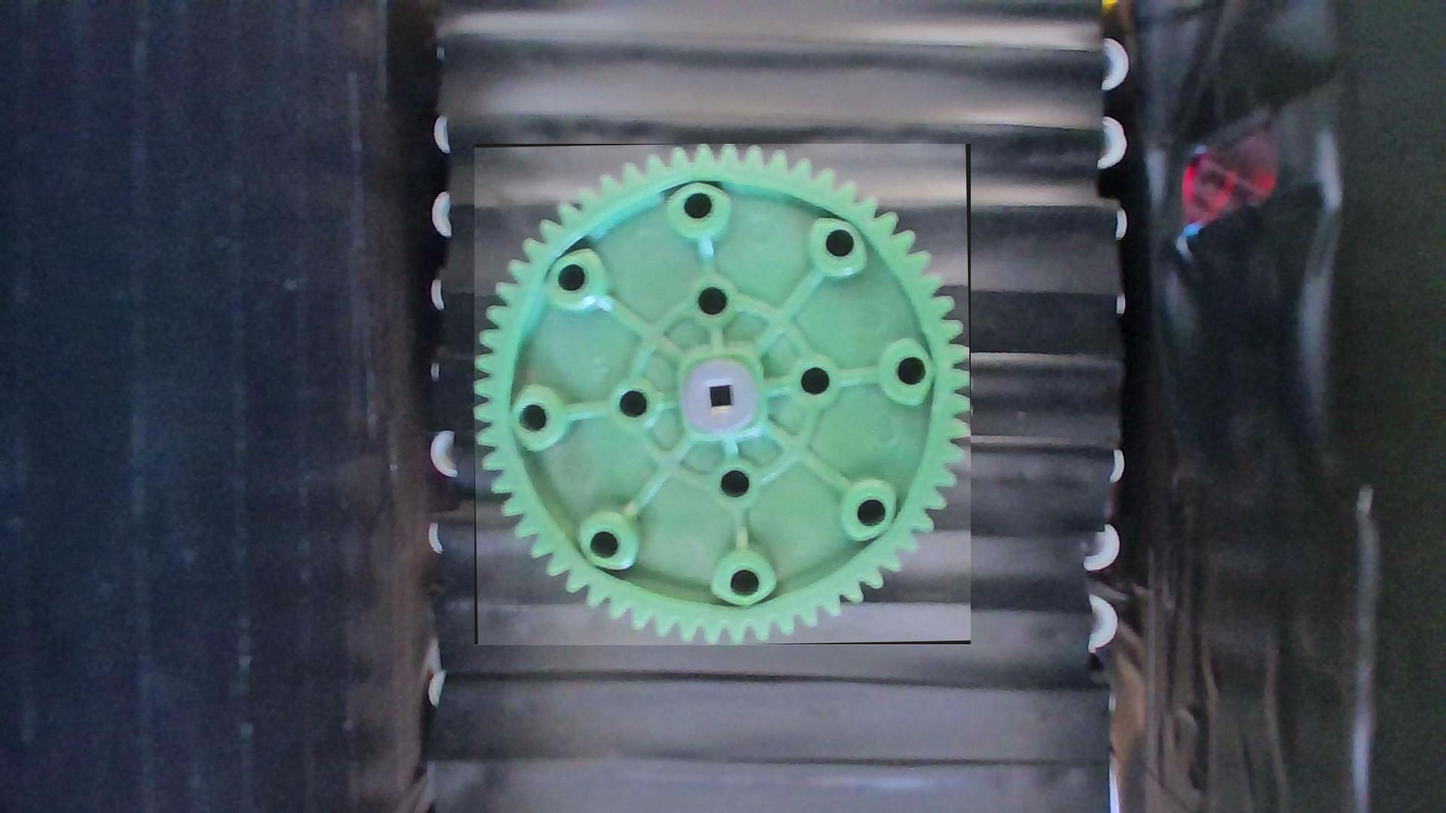gear: (474, 144, 971, 646)
